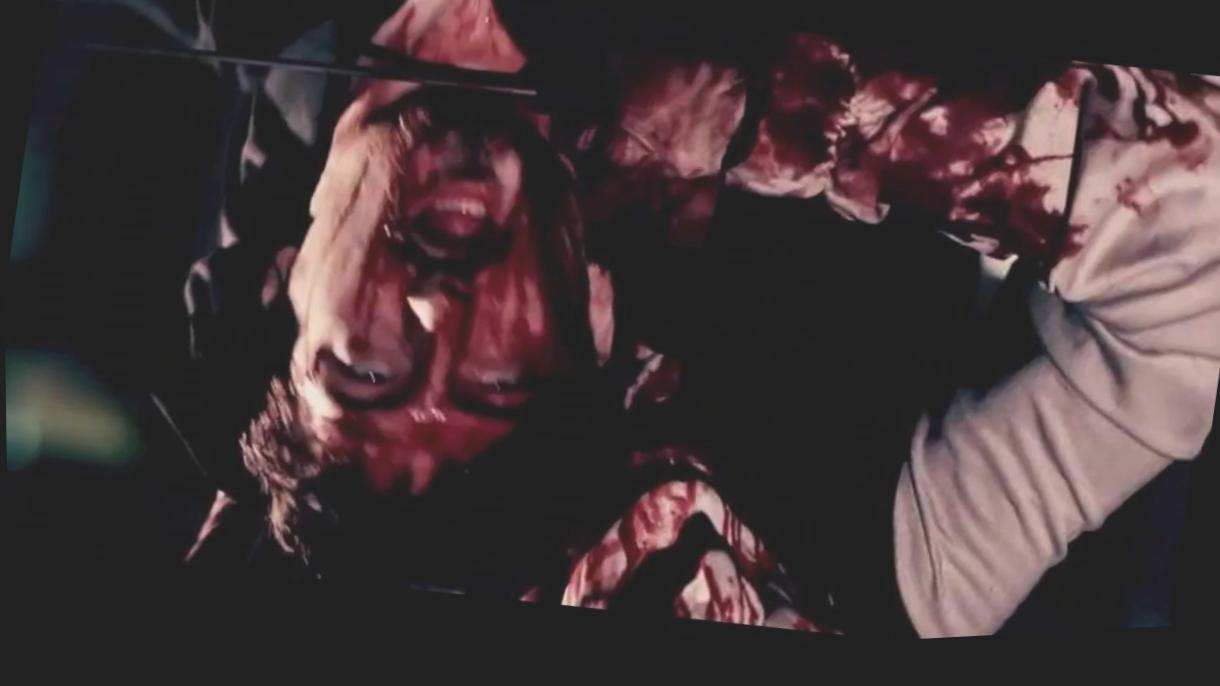Fire: (281, 0, 1220, 639)
